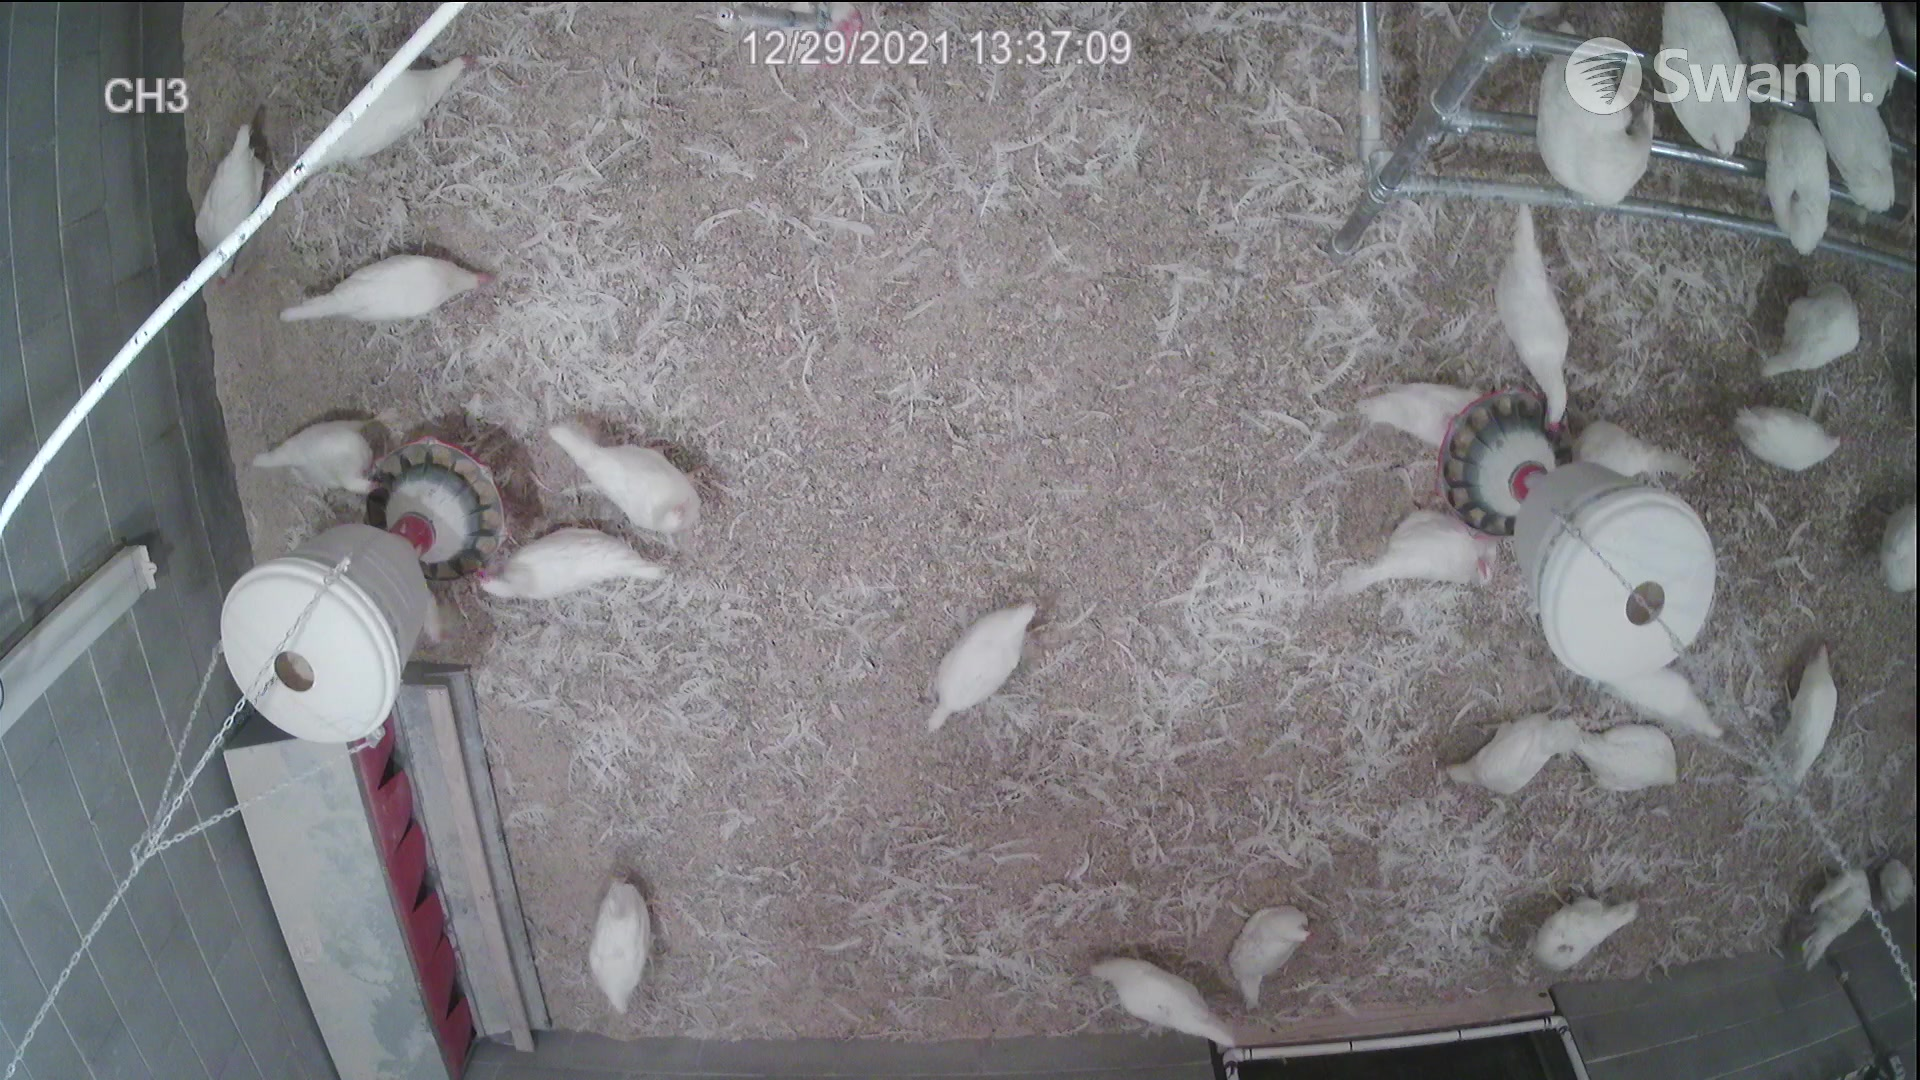Feeding: (1491, 199, 1593, 447), (462, 534, 691, 618), (229, 407, 382, 497)
Foraging: (927, 589, 1044, 720), (567, 873, 679, 1005), (286, 257, 505, 320), (1771, 277, 1862, 392)
Perching: (1640, 0, 1760, 161), (1538, 45, 1648, 214), (1807, 76, 1898, 214), (1753, 113, 1822, 248)
